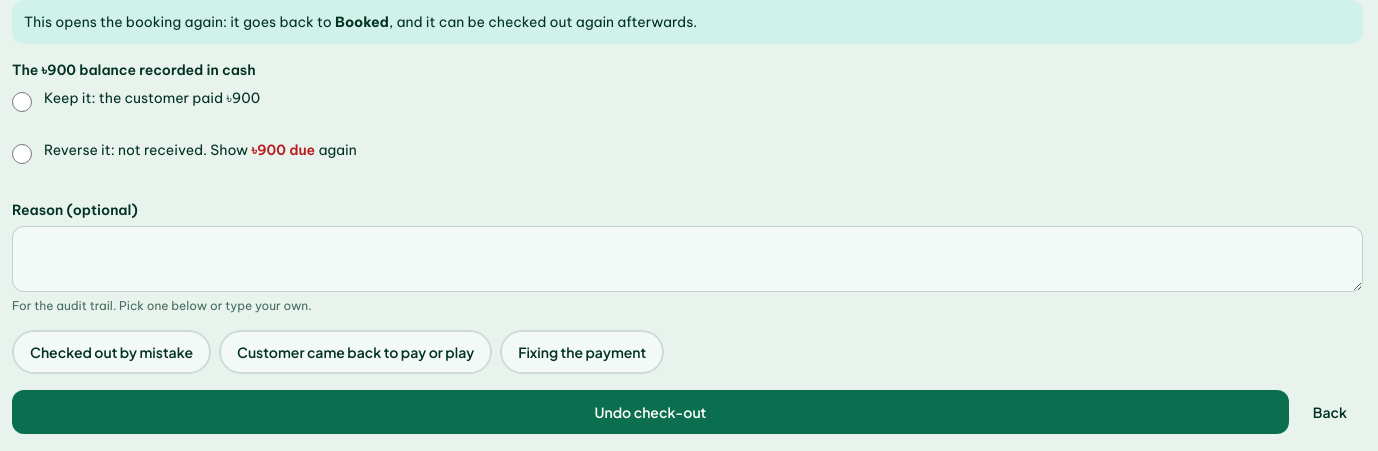
it: UndoCheckOutForm › 'Reverse it' sends reverseBalance; 'Keep it' does not
Later steps or results of the test are not shown.
What coordinates should you click on to do the following:
click the radio button labelled "Reverse it: not received. Show ৳900 due again"
I would click on:
 (22, 154)
Its box is [12,144,32,164].
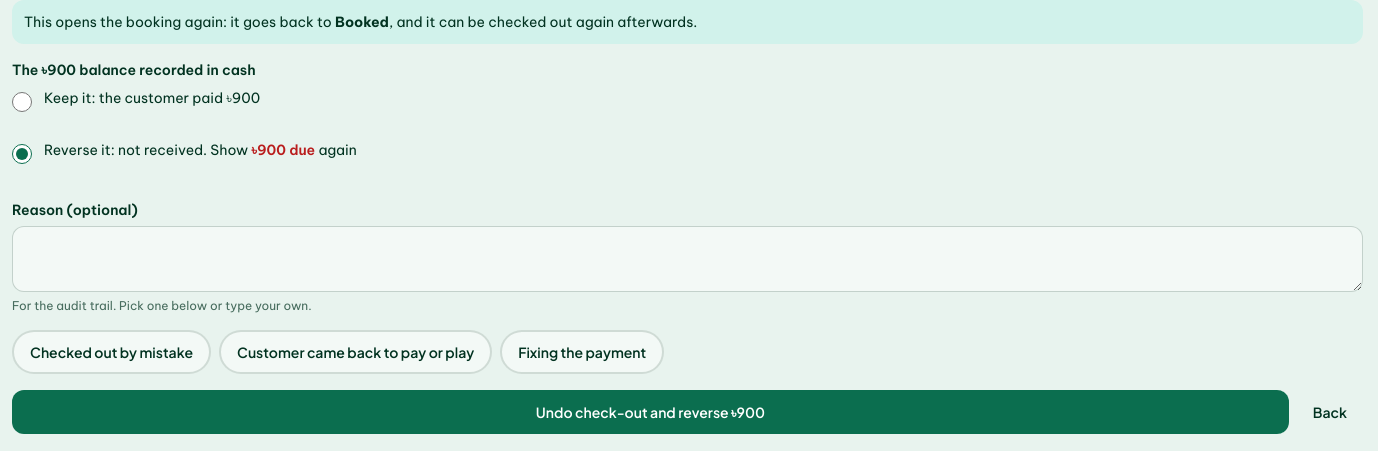
Now the button "Undo check-out and reverse ৳900" is shown, box [12,390,1289,434]
